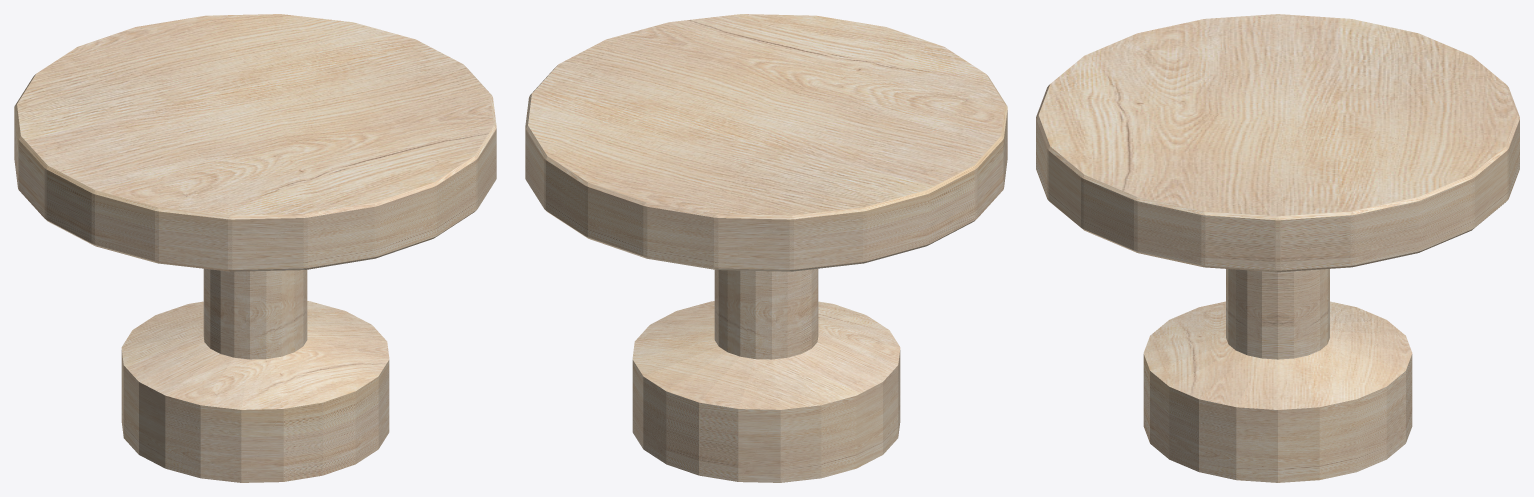
File: table for reception (1).fbx
3 renders of one model, left to right at view 1: azimuth 30°, elevation 25°; view 2: azimuth 150°, elevation 25°; view 3: azimuth 270°, elevation 25°, orthographic.
Parts seen in each view (by area): view 1: polySurface27; view 2: polySurface27; view 3: polySurface27.
Boxes of the visible parts, left/top/right/bottom form: polySurface27: left=14, top=14, right=496, bottom=482; polySurface27: left=525, top=14, right=1007, bottom=482; polySurface27: left=1036, top=14, right=1519, bottom=482.
Size of the model in its own units: 571 by 405 by 571.
